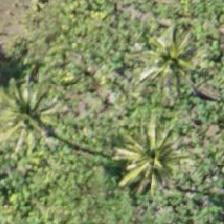coconut_tree: (127, 18, 217, 108), (113, 121, 203, 211), (0, 73, 71, 163)
